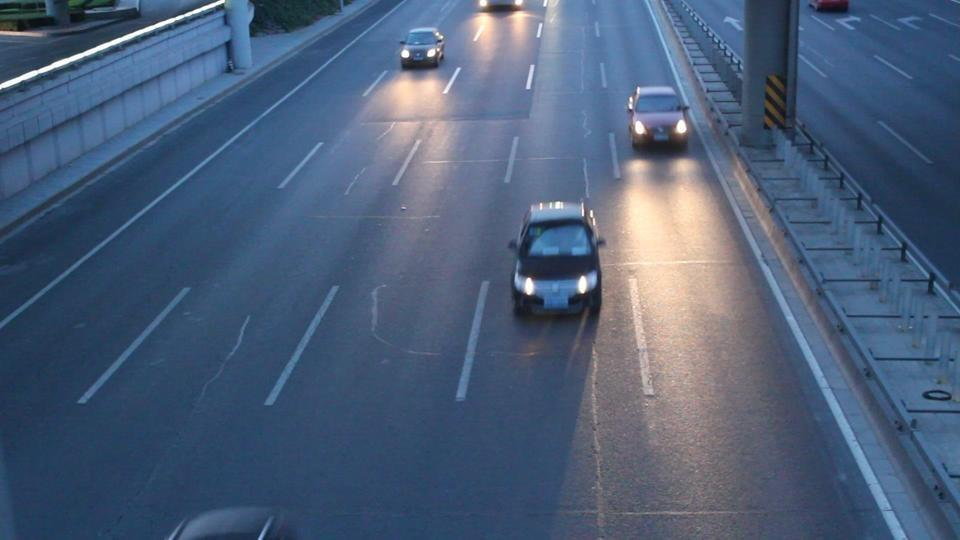car: (508, 199, 605, 318), (626, 84, 691, 152), (399, 27, 446, 68), (810, 0, 850, 13)
